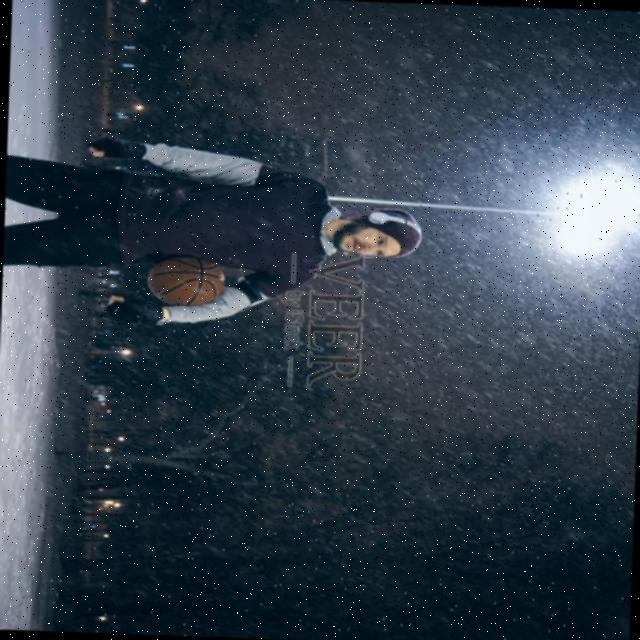ball: (144, 255, 225, 308)
